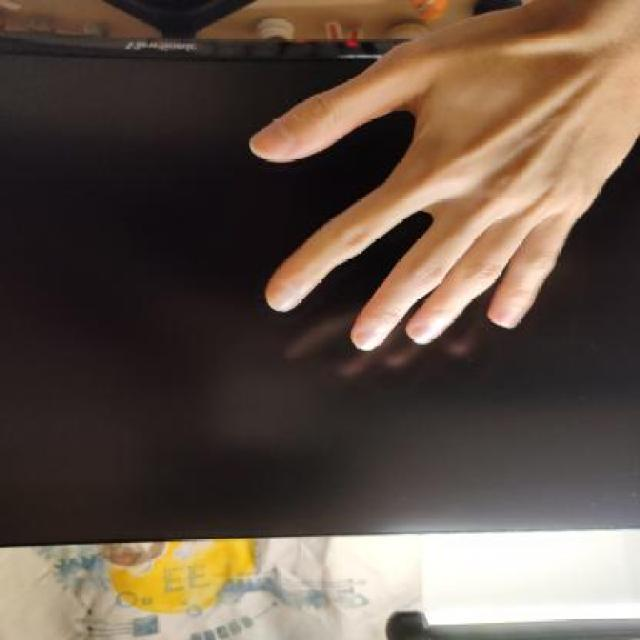bare_hand: (223, 2, 639, 370)
